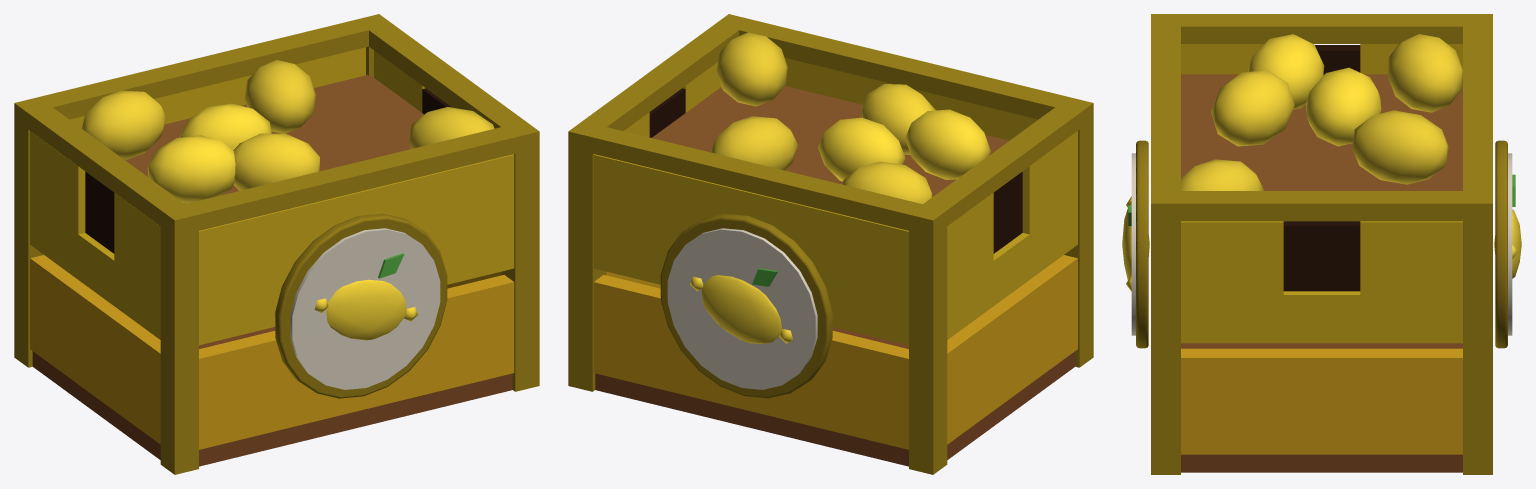
File: crate_lemon.glb
The picture shows the model from 3 angles, left to right: view 1: azimuth 30°, elevation 25°; view 2: azimuth 150°, elevation 25°; view 3: azimuth 270°, elevation 25°; orthographic projection. The views are drawn at different scales.
Parts seen in each view (by area): view 1: pv3_crate_lemon; view 2: pv3_crate_lemon; view 3: pv3_crate_lemon.
Part boxes in pixels (left/top/right/bottom): pv3_crate_lemon: left=14, top=14, right=539, bottom=474; pv3_crate_lemon: left=568, top=14, right=1093, bottom=474; pv3_crate_lemon: left=1122, top=14, right=1521, bottom=474.
Size of the model in its own units: 0.42 by 0.2971 by 0.3739.
